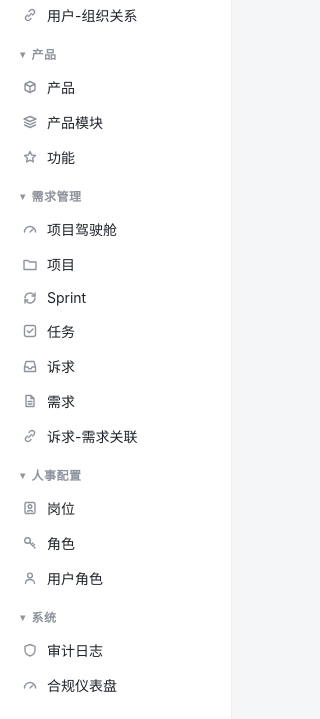
Test: AppLayout Sider (TC-FES-201) › collapses and expands a menu group on title click (TC-FES-WB-103)
(page scrolled)
Expected: the text "审计日志" is shown, [47,642,103,659]
Click the button with test id "appshell-group-sys" at (116,616), box [10,601,221,632]
(page scrolled)
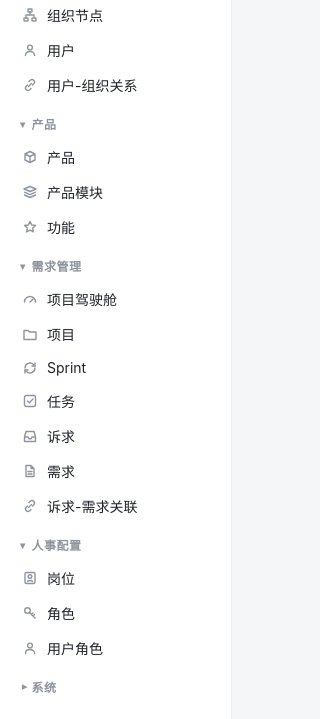
Expected: the link "审计日志" is gone
Click the button with test id "appshell-group-sys" at (116,686), box [10,671,221,702]
(page scrolled)
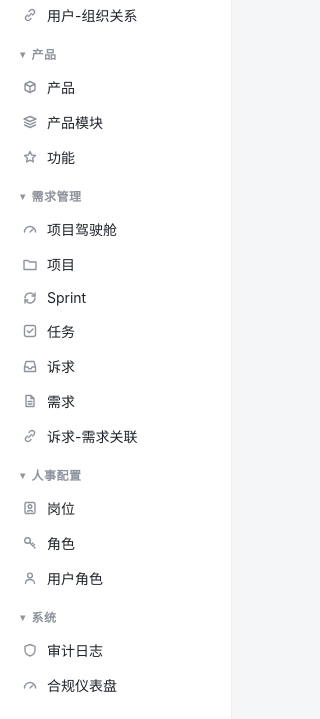
Expected: the text "审计日志" is shown, [47,642,103,659]
